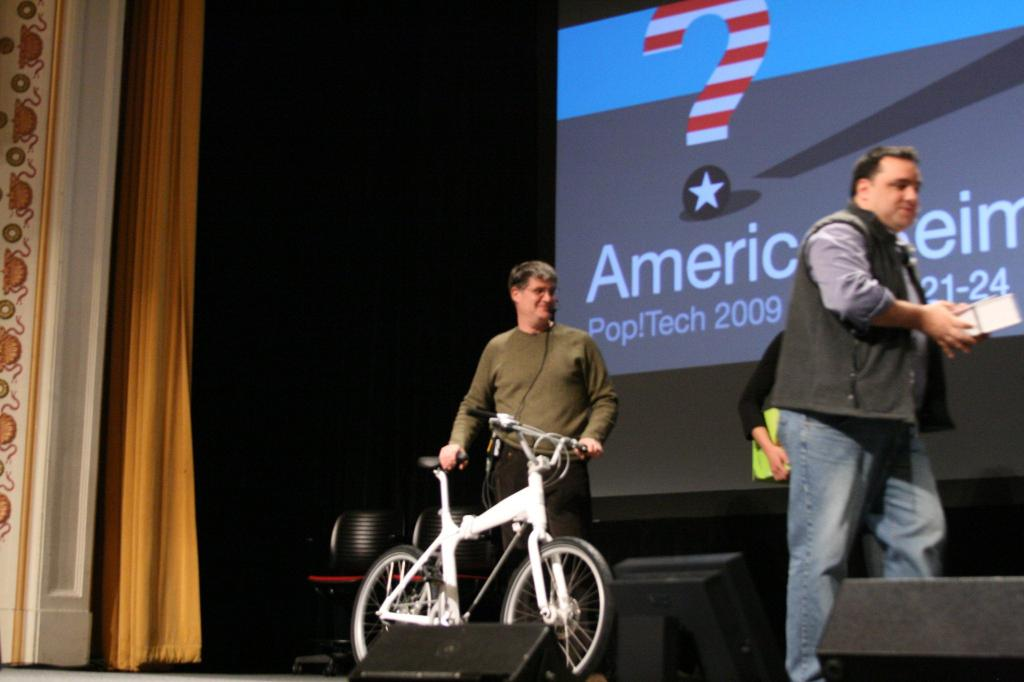Bike_toward: (352, 428, 623, 665)
